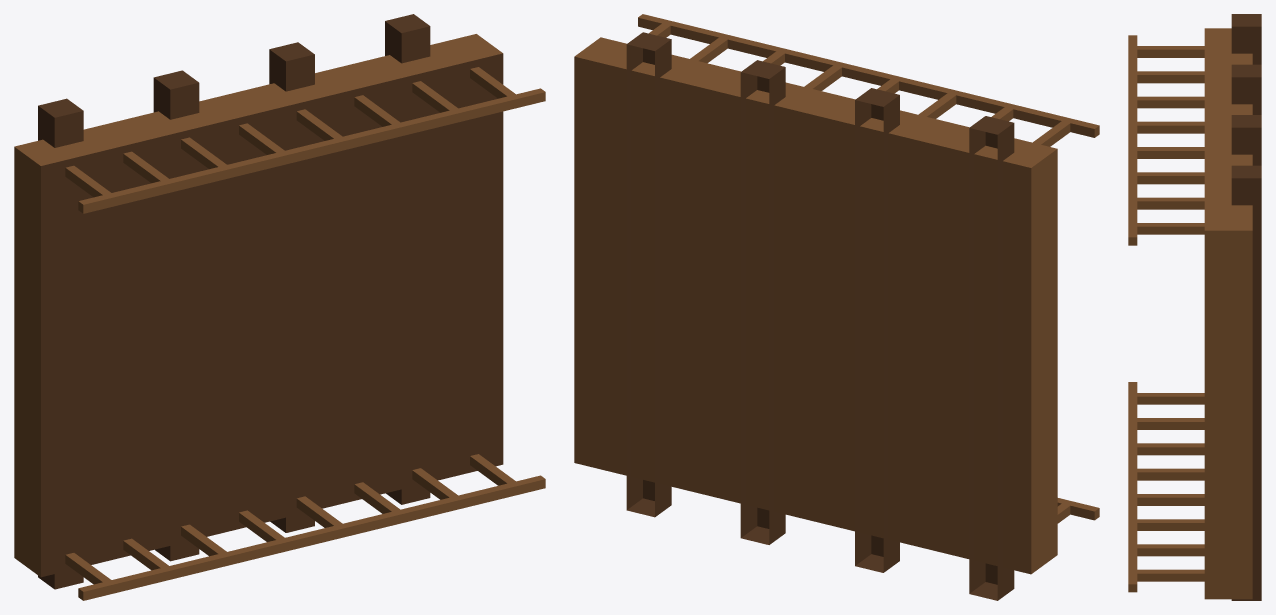
Rendered from ramp_flat.glb.
The picture shows the model from 3 angles, left to right: view 1: azimuth 30°, elevation 25°; view 2: azimuth 150°, elevation 25°; view 3: azimuth 270°, elevation 25°; orthographic projection. The views are drawn at different scales.
Visible parts, largest first — view 1: bridge_00_ramp_flat; view 2: bridge_00_ramp_flat; view 3: bridge_00_ramp_flat.
Boxes of the visible parts, left/top/right/bottom form: bridge_00_ramp_flat: left=14, top=14, right=545, bottom=600; bridge_00_ramp_flat: left=574, top=14, right=1099, bottom=600; bridge_00_ramp_flat: left=1128, top=14, right=1261, bottom=600.
Size of the model in its own units: 16 by 15.6 by 4.45.
